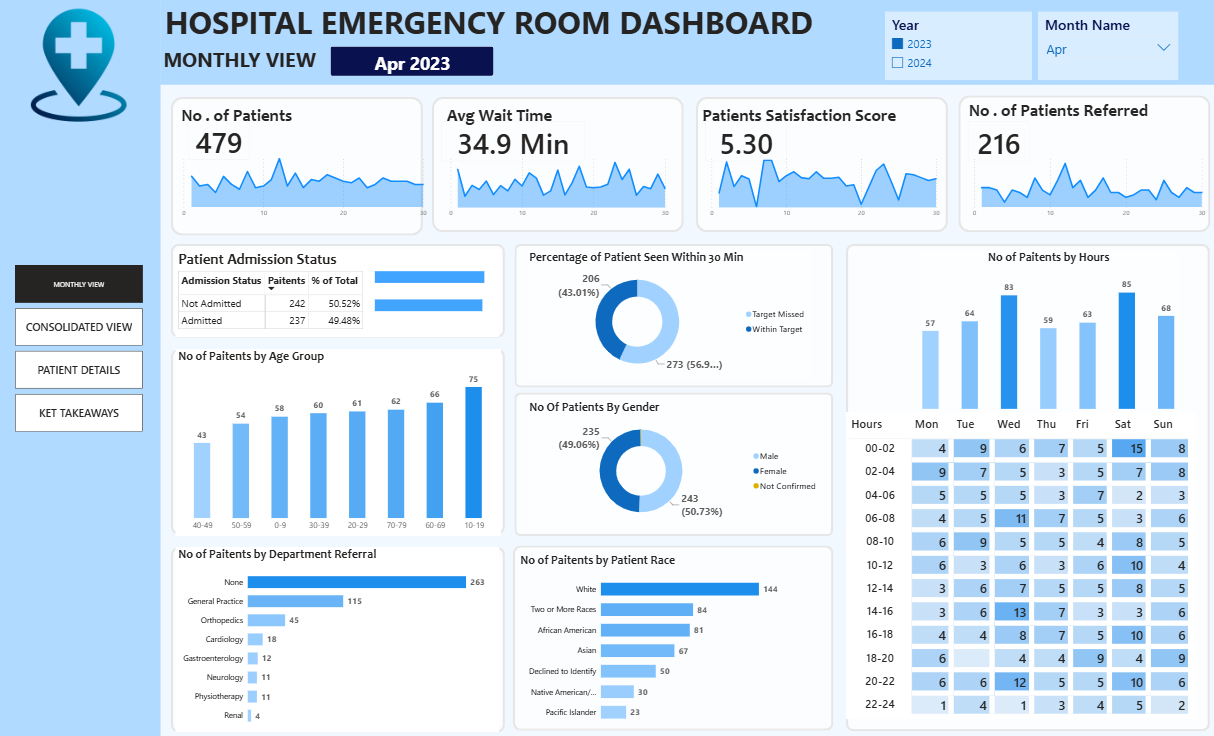

This screenshot's page, from the dashboard's own definition file:
{"tool":"powerbi","page":{"name":"MONTHLY VIEW","canvas":[2300,1400],"ordinal":0},"visuals":[{"type":"shape","box":[1602.6,462.8,686.4,919.4],"z":0},{"type":"shape","box":[327.4,462.8,630,177],"z":1000},{"type":"shape","box":[327.4,185.8,475.4,261.3],"z":2000},{"type":"shape","box":[0,0,308.6,1401.1],"z":3000},{"type":"shape","box":[308.6,0,1993,163.7],"z":4000},{"type":"textbox","box":[310,0,1550,106.7],"z":5000},{"type":"textbox","box":[308.6,85,418.8,69.3],"z":6000},{"type":"cardVisual","fields":{"Data":["Hospital ER_Data.No of Paitents"]},"box":[343.2,213,151.1,110.2],"z":7000},{"type":"image","box":[31.5,18.9,245.6,214.1],"z":8000},{"type":"textbox","box":[343.2,195.2,223.5,72.4],"z":9000},{"type":"cardVisual","fields":{"Data":["Min(Date Table.Montn & Year)"]},"box":[610.8,72.4,343.2,91.3],"z":10000},{"type":"shape","box":[821.8,185.8,475,255],"z":11000},{"type":"textbox","box":[844.4,195.8,242.4,59.8],"z":12000},{"type":"shape","box":[1319.2,185.8,475.4,255],"z":13000},{"type":"textbox","box":[1319.2,195.2,475.4,72.4],"z":14000},{"type":"shape","box":[1813.5,182.6,475.4,258.2],"z":15000},{"type":"textbox","box":[1829.3,185.8,399.9,56.7],"z":16000},{"type":"cardVisual","fields":{"Data":["Hospital ER_Data.Avg Wait Time"]},"box":[821.8,214.1,305.4,110.2],"z":17000},{"type":"cardVisual","fields":{"Data":["Hospital ER_Data.Satisfaction Score"]},"box":[1319.2,214.1,188.9,110.2],"z":18000},{"type":"cardVisual","fields":{"Data":["Hospital ER_Data.No of Patient Refer"]},"box":[1813.5,214.1,151.1,110.2],"z":19000},{"type":"areaChart","fields":{"Category":["Date Table.Date.Variation.Date Hierarchy.Day"],"Y":["Avg(Hospital ER_Data.Patient Waittime)"]},"box":[840.6,289.7,434.5,135.4],"z":20000},{"type":"areaChart","fields":{"Category":["Date Table.Date.Variation.Date Hierarchy.Day"],"Y":["Hospital ER_Data.No of Paitents"]},"box":[336.9,289.7,481.7,135.4],"z":21000},{"type":"areaChart","fields":{"Category":["Date Table.Date.Variation.Date Hierarchy.Day"],"Y":["Hospital ER_Data.Satisfaction Score"]},"box":[1331.8,292.8,453.4,132.2],"z":22000},{"type":"areaChart","fields":{"Category":["Date Table.Date.Variation.Date Hierarchy.Day"],"Y":["Hospital ER_Data.No of Patient Refer"]},"box":[1829.3,289.7,459.7,135.4],"z":23000},{"type":"pivotTable","title":"Patient  Admission Status","fields":{"Rows":["Hospital ER_Data.Admission States"],"Values":["Hospital ER_Data.No of Paitents1","Hospital ER_Data.No of Paitents"]},"box":[336.9,475.4,610.8,163.7],"z":24000},{"type":"barChart","fields":{"Y":["CountNonNull(Hospital ER_Data.Department Referral)"],"Category":["Hospital ER_Data.Admission States"]},"box":[708.4,475.4,217.2,151.1],"z":25000},{"type":"shape","box":[327.4,661.2,630,350],"z":26000},{"type":"clusteredColumnChart","fields":{"Category":["Hospital ER_Data.Age Group"],"Y":["Hospital ER_Data.No of Paitents"]},"box":[336.9,661.2,614,352.6],"z":27000},{"type":"shape","box":[327.4,1035.9,630,350],"z":28000},{"type":"clusteredBarChart","fields":{"Category":["Hospital ER_Data.Department Referral"],"Y":["Hospital ER_Data.No of Paitents"]},"box":[336.9,1035.9,610.8,349.5],"z":29000},{"type":"shape","box":[976,462.8,601.4,270.8],"z":30000},{"type":"donutChart","title":"Percentage of Patient Seen Within 30  Min","fields":{"Category":["Hospital ER_Data.Wait_Time Status"],"Y":["Hospital ER_Data.No of Paitents"]},"box":[998.1,475.4,538.4,242.4],"z":31000},{"type":"shape","box":[976,743,601.4,270.8],"z":32000},{"type":"donutChart","title":"No Of Patients By Gender","fields":{"Y":["Hospital ER_Data.No of Paitents"],"Category":["Hospital ER_Data.Patient Gender"]},"box":[998.1,758.8,560.4,239.3],"z":33000},{"type":"shape","box":[972.9,1032.7,604.5,349.5],"z":34000},{"type":"clusteredBarChart","fields":{"Y":["Hospital ER_Data.No of Paitents"],"Category":["Hospital ER_Data.Patient Race"]},"box":[982.3,1048.5,576.2,333.7],"z":35000},{"type":"pivotTable","fields":{"Rows":["Hospital ER_Data.Waittime Interval"],"Columns":["Date Table.Day Name"],"Values":["Hospital ER_Data.No of Paitents"]},"box":[1602.6,780.8,661.2,579.3],"z":36000},{"type":"columnChart","title":"No of Paitents by Hours","fields":{"Category":["Date Table.Day Name"],"Y":["Hospital ER_Data.No of Paitents"]},"box":[1741.1,475.4,488,305.4],"z":37000},{"type":"slicer","fields":{"Values":["Date Table.Year"]},"box":[1675,25.2,277.1,129.1],"z":38000},{"type":"slicer","fields":{"Values":["Date Table.Month Name"]},"box":[1964.7,25.2,264.5,129.1],"z":39000},{"type":"pageNavigator","box":[33.3,504.2,241.7,316.7],"z":40000}]}

Visuals, with their boxes in screenshot pixels (x1, y1, x2, y2), scaled from the page's 2300x1400 canvas onto the 1214x736 screenshot:
shape: box=[846, 243, 1208, 727]
shape: box=[173, 243, 505, 336]
shape: box=[173, 98, 424, 235]
shape: box=[0, 0, 163, 735]
shape: box=[163, 0, 1213, 86]
textbox: box=[164, 0, 982, 56]
textbox: box=[163, 45, 384, 81]
cardVisual - Hospital ER_Data.No of Paitents: box=[181, 112, 261, 170]
image: box=[17, 10, 146, 122]
textbox: box=[181, 103, 299, 141]
cardVisual - Min(Date Table.Montn & Year): box=[322, 38, 504, 86]
shape: box=[434, 98, 684, 232]
textbox: box=[446, 103, 574, 134]
shape: box=[696, 98, 947, 232]
textbox: box=[696, 103, 947, 141]
shape: box=[957, 96, 1208, 232]
textbox: box=[966, 98, 1177, 127]
cardVisual - Hospital ER_Data.Avg Wait Time: box=[434, 113, 595, 170]
cardVisual - Hospital ER_Data.Satisfaction Score: box=[696, 113, 796, 170]
cardVisual - Hospital ER_Data.No of Patient Refer: box=[957, 113, 1037, 170]
areaChart - Date Table.Date.Variation.Date Hierarchy.Day x Avg(Hospital ER_Data.Patient Waittime): box=[444, 152, 673, 223]
areaChart - Date Table.Date.Variation.Date Hierarchy.Day x Hospital ER_Data.No of Paitents: box=[178, 152, 432, 223]
areaChart - Date Table.Date.Variation.Date Hierarchy.Day x Hospital ER_Data.Satisfaction Score: box=[703, 154, 942, 223]
areaChart - Date Table.Date.Variation.Date Hierarchy.Day x Hospital ER_Data.No of Patient Refer: box=[966, 152, 1208, 223]
"Patient  Admission Status" pivotTable: box=[178, 250, 500, 336]
barChart - CountNonNull(Hospital ER_Data.Department Referral) x Hospital ER_Data.Admission States: box=[374, 250, 489, 329]
shape: box=[173, 348, 505, 532]
clusteredColumnChart - Hospital ER_Data.Age Group x Hospital ER_Data.No of Paitents: box=[178, 348, 502, 533]
shape: box=[173, 545, 505, 729]
clusteredBarChart - Hospital ER_Data.Department Referral x Hospital ER_Data.No of Paitents: box=[178, 545, 500, 728]
shape: box=[515, 243, 833, 386]
"Percentage of Patient Seen Within 30  Min" donutChart: box=[527, 250, 811, 377]
shape: box=[515, 391, 833, 533]
"No Of Patients By Gender" donutChart: box=[527, 399, 823, 525]
shape: box=[514, 543, 833, 727]
clusteredBarChart - Hospital ER_Data.No of Paitents x Hospital ER_Data.Patient Race: box=[518, 551, 823, 727]
pivotTable - Hospital ER_Data.Waittime Interval x Date Table.Day Name: box=[846, 410, 1195, 715]
"No of Paitents by Hours" columnChart: box=[919, 250, 1177, 410]
slicer - Date Table.Year: box=[884, 13, 1030, 81]
slicer - Date Table.Month Name: box=[1037, 13, 1177, 81]
pageNavigator: box=[18, 265, 145, 432]
